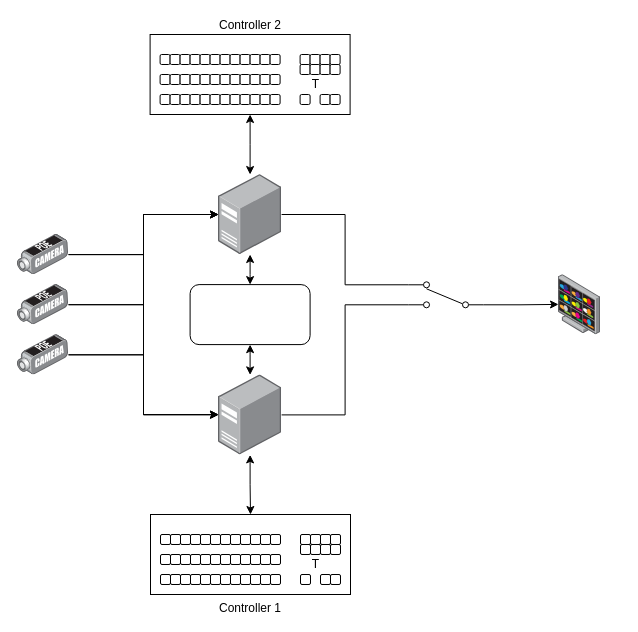
Some shapes in this 638 by 632 pixel diagram are drawn without their labels. The centre of each missing label's shape, as x and y in pixels:
"Program output" goes at [579,304].
"Proxy client" goes at [249,314].
